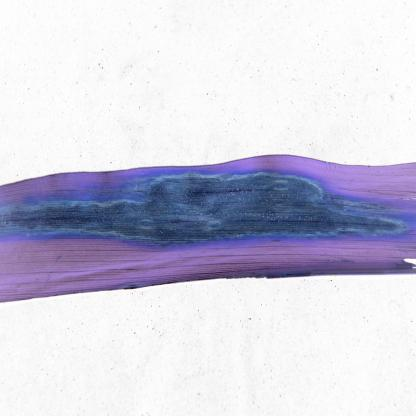Corn leaf blight: (1, 157, 416, 293)
